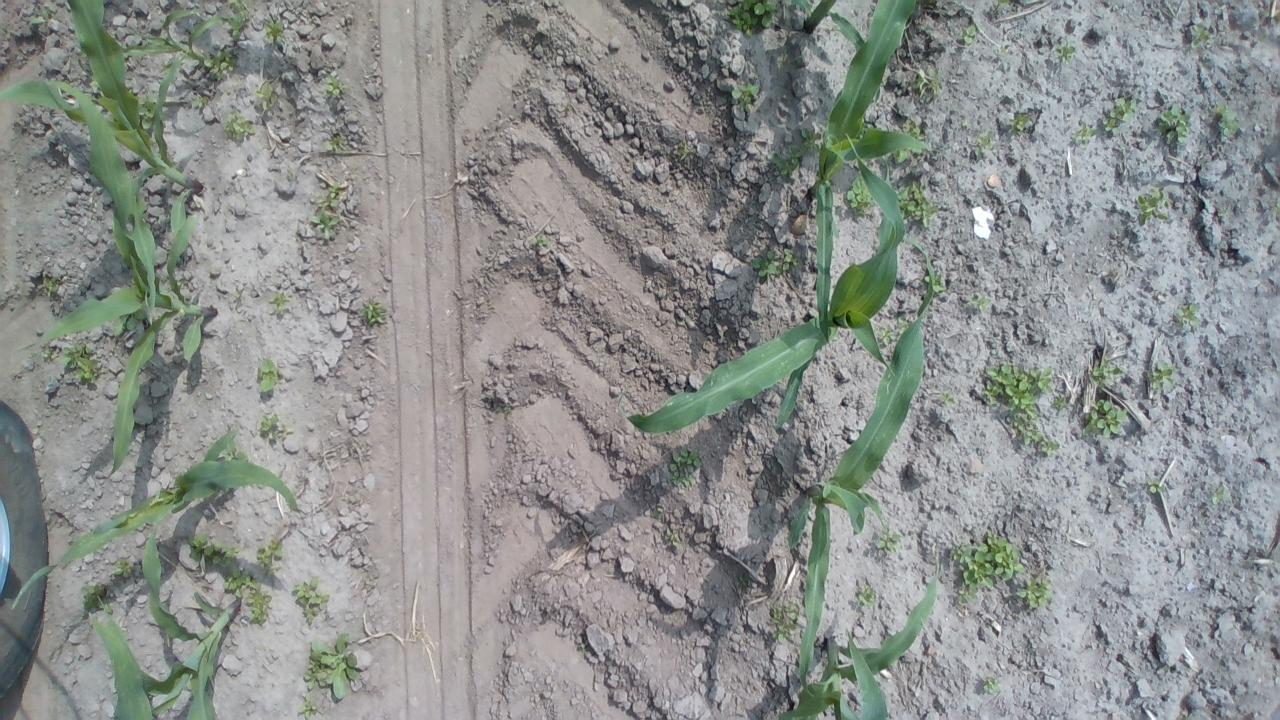Maize: (619, 121, 907, 436), (0, 78, 218, 480), (781, 232, 934, 704), (0, 0, 206, 272), (11, 428, 300, 606), (805, 0, 932, 350), (776, 554, 944, 720), (125, 524, 240, 720), (110, 0, 232, 140), (92, 609, 154, 720), (791, 0, 864, 52)
Weeds: (982, 360, 1068, 456), (949, 527, 1026, 605), (303, 630, 363, 703), (727, 0, 815, 40), (224, 567, 272, 627), (768, 126, 822, 176), (186, 530, 242, 568), (895, 179, 937, 229), (61, 338, 102, 386), (1082, 398, 1130, 439), (291, 574, 330, 624), (752, 246, 802, 280), (846, 170, 880, 219), (666, 444, 701, 490), (1153, 102, 1191, 144), (904, 65, 941, 103), (1102, 95, 1137, 134), (772, 596, 801, 642), (1138, 186, 1172, 225), (222, 106, 257, 142), (1017, 574, 1054, 608), (78, 580, 112, 616), (1090, 356, 1126, 390), (254, 534, 284, 574), (256, 412, 295, 442), (202, 48, 238, 80), (310, 207, 344, 240), (137, 94, 168, 130), (874, 316, 911, 346), (1216, 102, 1242, 141), (358, 295, 388, 328), (253, 357, 280, 393), (230, 0, 253, 41), (110, 310, 146, 336), (318, 176, 347, 208), (217, 434, 249, 463), (732, 80, 760, 112), (1144, 360, 1174, 389), (968, 128, 996, 158), (876, 523, 901, 556), (256, 78, 280, 112), (1188, 22, 1216, 50), (1174, 302, 1204, 328), (898, 116, 925, 140), (856, 584, 880, 611), (264, 15, 286, 44), (298, 693, 320, 720), (1008, 111, 1033, 134), (1071, 122, 1096, 145), (268, 291, 294, 313), (924, 270, 944, 297), (326, 134, 354, 153), (968, 293, 992, 314), (30, 8, 50, 33), (1056, 41, 1076, 65), (323, 74, 344, 96), (110, 558, 135, 576), (42, 275, 59, 301), (1210, 486, 1234, 504), (960, 24, 979, 46), (676, 140, 696, 160), (529, 232, 551, 250), (662, 528, 681, 547), (1146, 478, 1164, 496), (934, 392, 956, 406), (41, 344, 58, 362), (982, 675, 999, 693), (494, 402, 514, 417), (192, 94, 210, 110), (894, 148, 910, 164), (776, 52, 788, 71), (70, 51, 86, 65), (158, 272, 170, 289), (578, 641, 593, 653), (654, 502, 664, 519), (734, 574, 748, 586), (90, 78, 102, 92), (286, 166, 298, 178), (996, 46, 1010, 56), (991, 0, 1008, 8), (191, 198, 202, 208), (230, 290, 241, 300), (832, 327, 844, 336), (1218, 206, 1228, 216), (1275, 196, 1280, 216), (961, 119, 970, 129), (176, 279, 185, 288)
